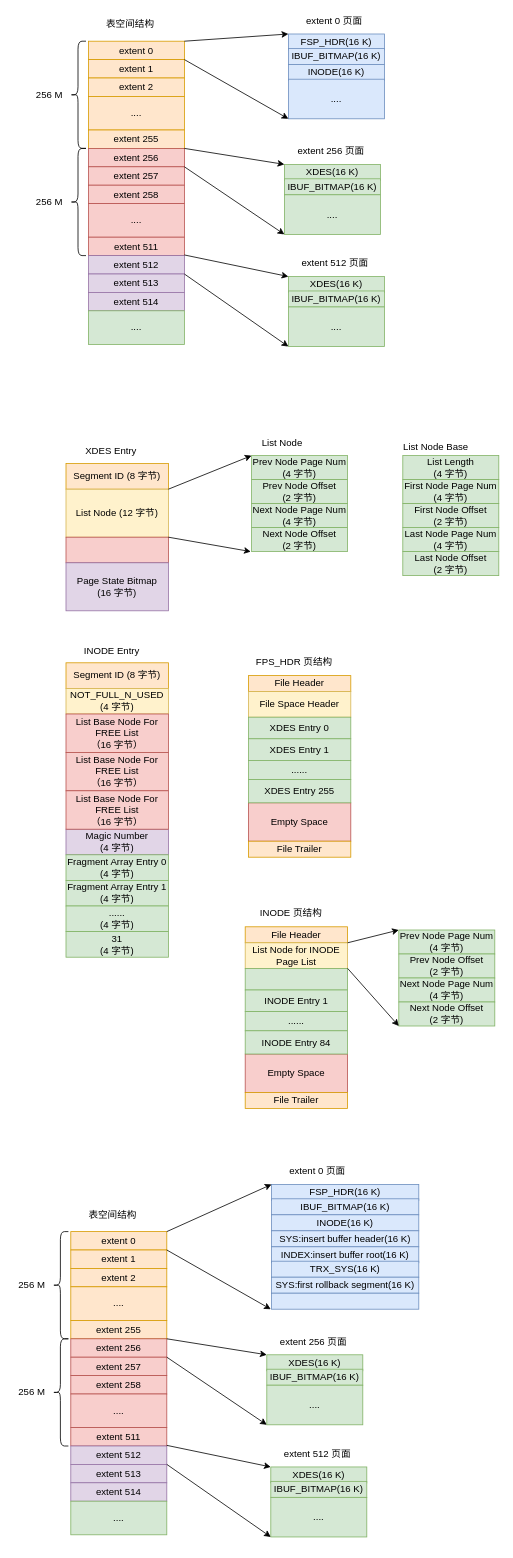
The diagram is 513 pixels wide and 1558 high, and some of its shapes have lost their labels. Each missing label, with the centre of its shape:
INODE Entry 0: the point at 296,979
State (4 字节): the point at 116,549
SYS:data directory header(16 K): the point at 345,1300
